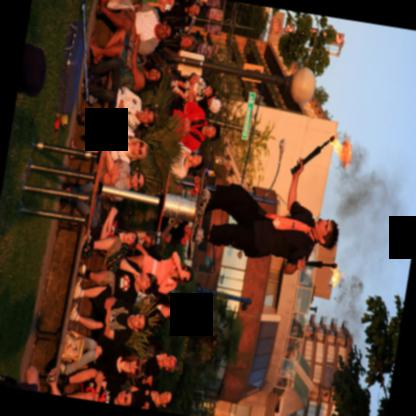backpack: (60, 331, 84, 361)
suitcase: (58, 19, 83, 115)
